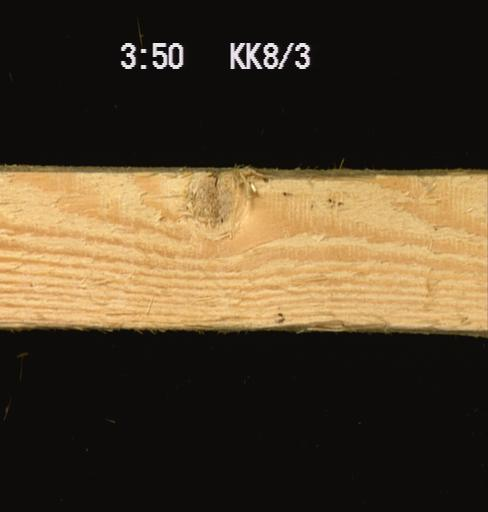edge_knot: (178, 162, 248, 230)
wave: (0, 162, 485, 178), (195, 320, 487, 334)
